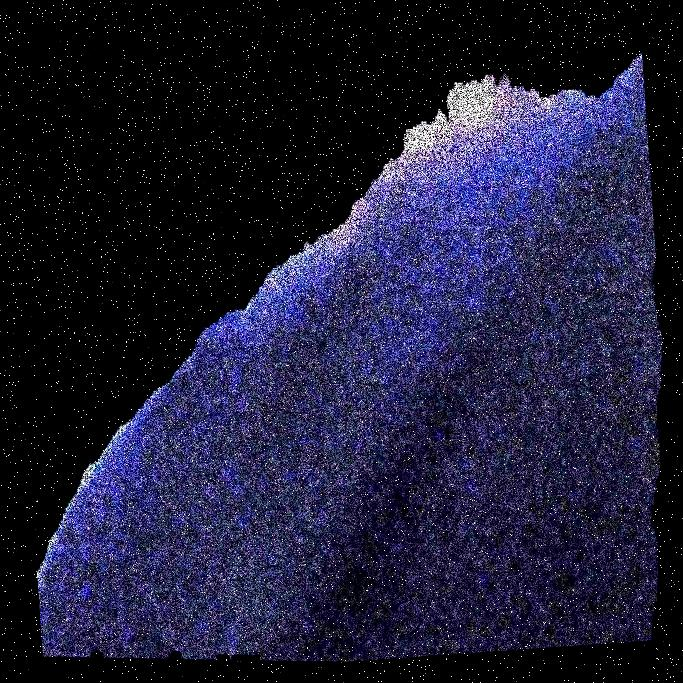Pessoa: (361, 0, 682, 682)
